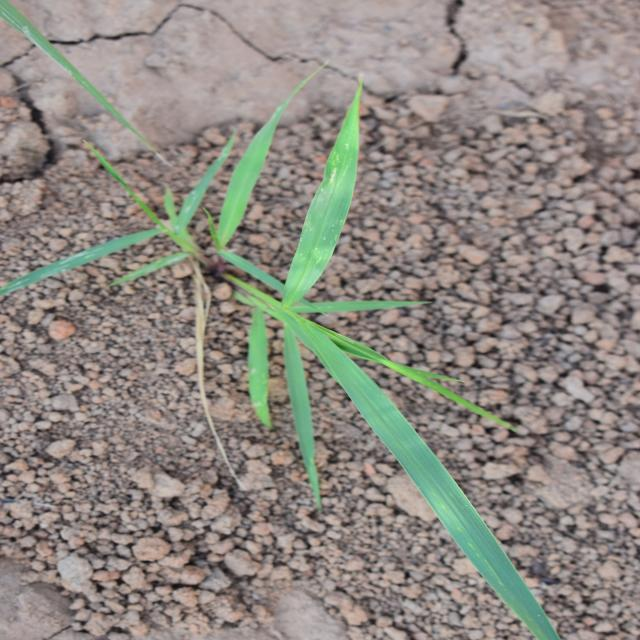green_foxtail: (57, 188, 493, 505)
